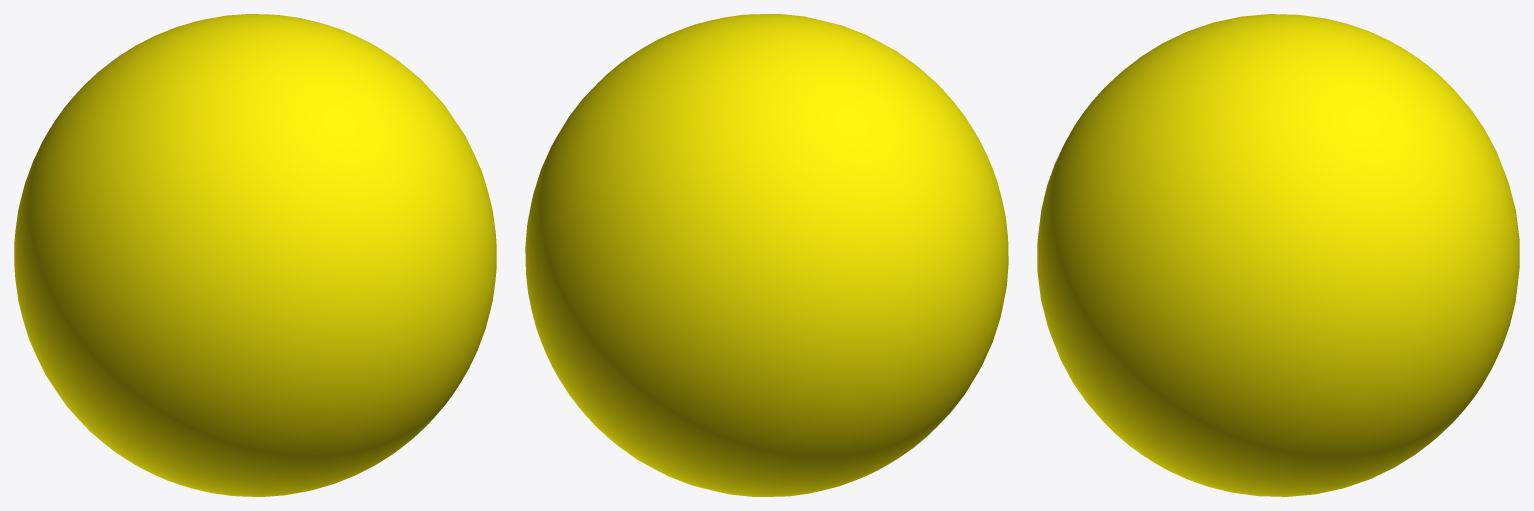
3 renders of one model, left to right at view 1: azimuth 30°, elevation 25°; view 2: azimuth 150°, elevation 25°; view 3: azimuth 270°, elevation 25°, orthographic.
Parts seen in each view (by area): view 1: root; view 2: root; view 3: root.
Boxes of the visible parts, <box> form: root: <box>14,14,496,496</box>; root: <box>525,14,1008,496</box>; root: <box>1037,14,1519,496</box>.
Size of the model in its own units: 0.3585 by 0.3591 by 0.3586.
Materials: 1 (1 with a texture image).
